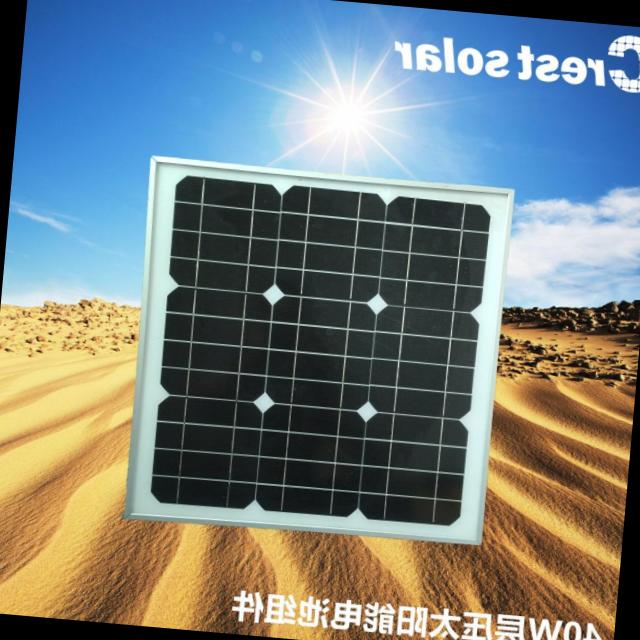no faulty: (143, 183, 498, 532)
